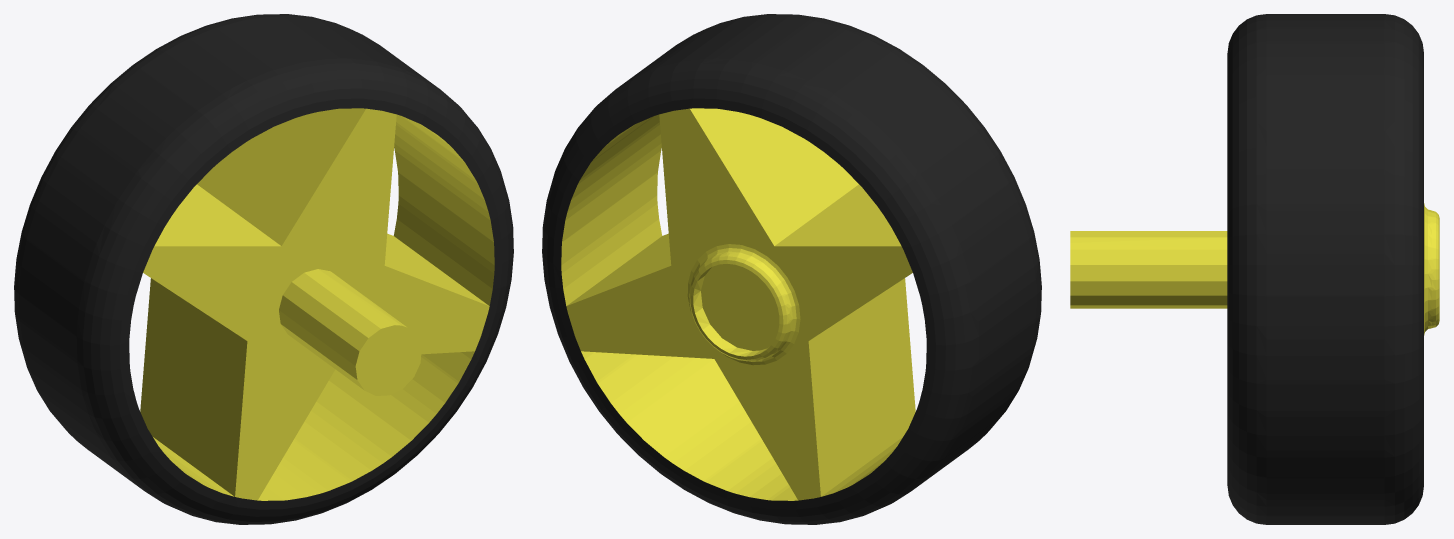
The model's file is front_left_wheel.dae.
3 views of the same model, side by side, from view 1: azimuth 30°, elevation 25°; view 2: azimuth 150°, elevation 25°; view 3: azimuth 270°, elevation 25° (orthographic). The views are drawn at different scales.
Parts seen in each view (by area): view 1: front_left_wheel; view 2: front_left_wheel; view 3: front_left_wheel.
Part boxes in pixels (x1=…): front_left_wheel: x1=14, y1=14, x2=513, y2=524; front_left_wheel: x1=542, y1=14, x2=1041, y2=524; front_left_wheel: x1=1070, y1=14, x2=1439, y2=524.
Bounding box in the file's own units: 0.065 × 0.047 × 0.065.
